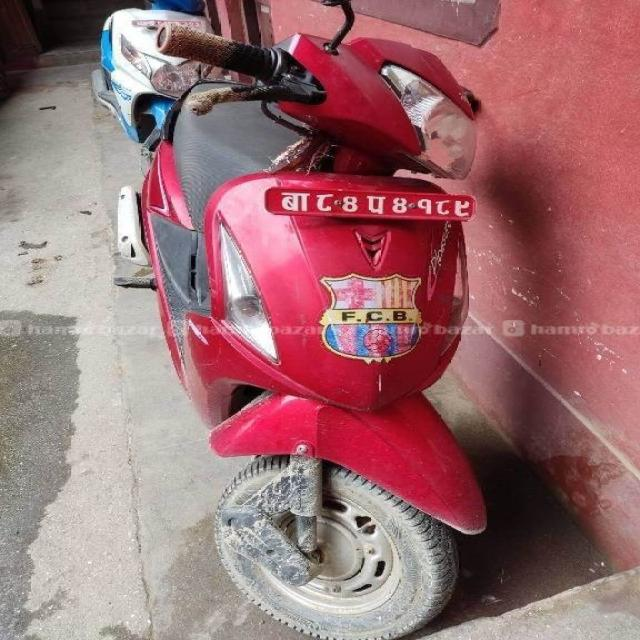License-plate: (264, 184, 476, 224)
